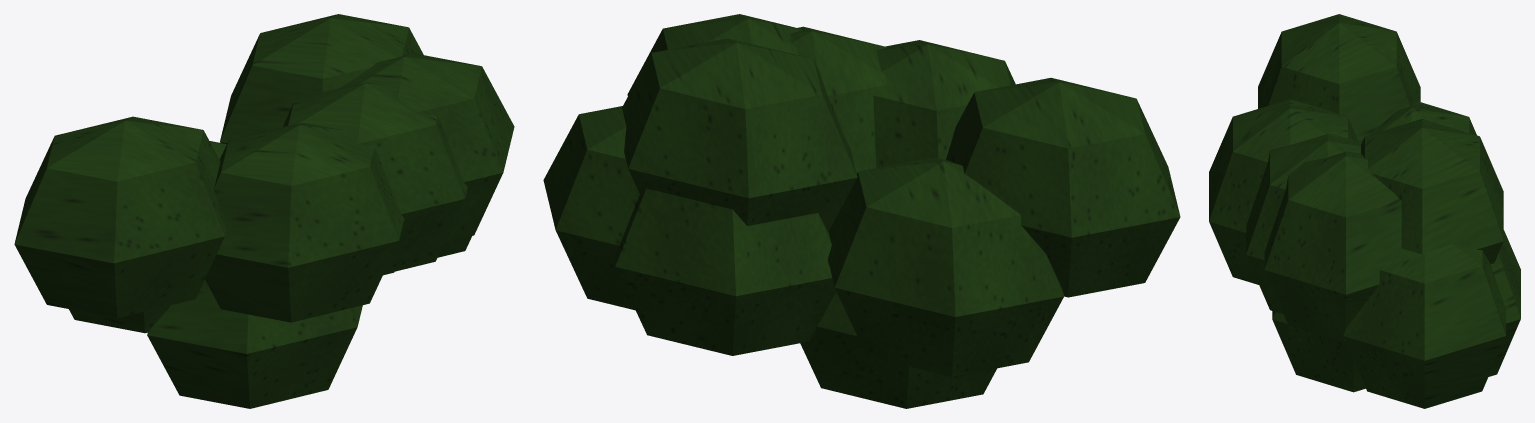
File: PROP-595D1B8CDE5C_lod2.glb
3 renders of one model, left to right at view 1: azimuth 30°, elevation 25°; view 2: azimuth 150°, elevation 25°; view 3: azimuth 270°, elevation 25°, orthographic. The views are drawn at different scales.
Parts seen in each view (by area): view 1: foliage.005; view 2: foliage.005; view 3: foliage.005.
Boxes of the visible parts, x1=… form: foliage.005: x1=14, y1=14, x2=514, y2=408; foliage.005: x1=543, y1=14, x2=1180, y2=408; foliage.005: x1=1209, y1=14, x2=1520, y2=408.
Size of the model in its own units: 1.46 by 0.8594 by 0.7973.
1 material, 1 textured.
